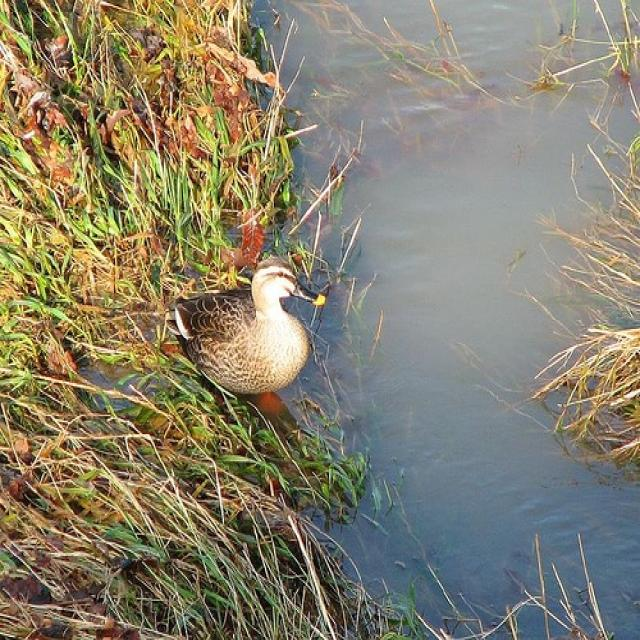bird: (177, 254, 325, 404)
